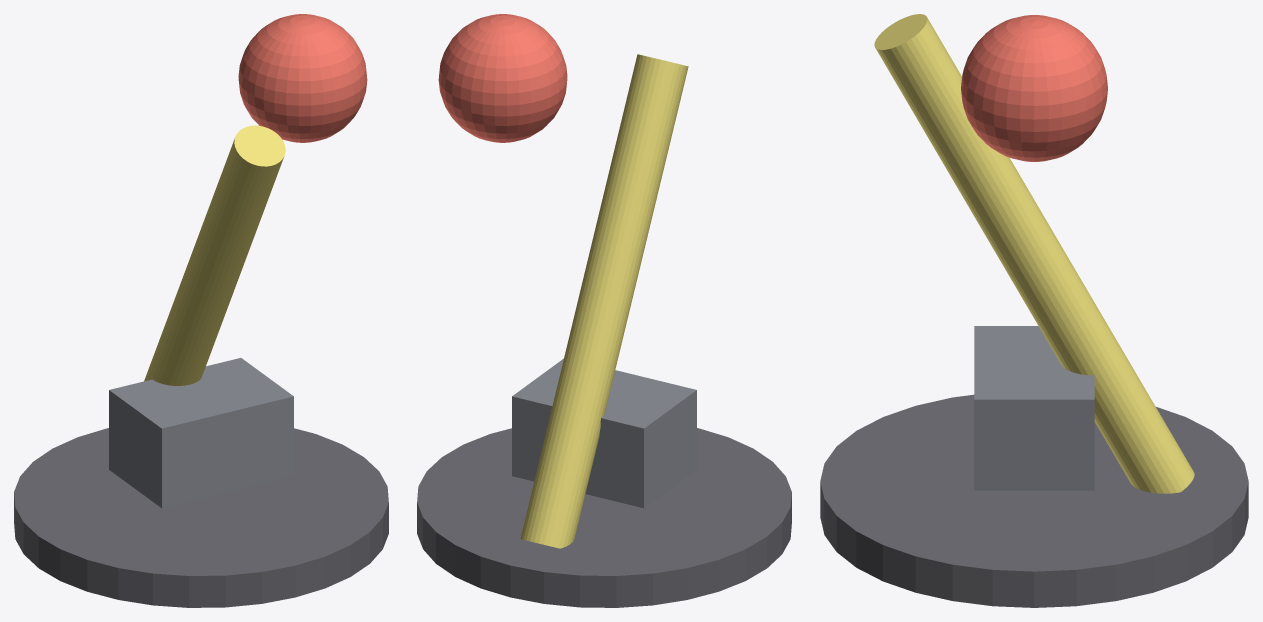
Rendered from switch_lever_right.glb.
The picture shows the model from 3 angles, left to right: view 1: azimuth 30°, elevation 25°; view 2: azimuth 150°, elevation 25°; view 3: azimuth 270°, elevation 25°; orthographic projection. The views are drawn at different scales.
Visible parts, largest first — view 1: Base, Housing, Shaft, Knob; view 2: Base, Shaft, Housing, Knob; view 3: Base, Shaft, Housing, Knob.
Boxes of the visible parts, box(x1,y1,x2,y2) form: Base: box(14, 428, 388, 607); Housing: box(109, 358, 293, 508); Shaft: box(144, 125, 285, 385); Knob: box(238, 14, 367, 142); Base: box(417, 428, 791, 607); Shaft: box(520, 54, 688, 548); Housing: box(512, 358, 696, 508); Knob: box(438, 14, 567, 142); Base: box(820, 394, 1248, 607); Shaft: box(874, 14, 1194, 493); Housing: box(974, 326, 1094, 490); Knob: box(961, 15, 1107, 161).
Bounding box in the file's own units: 0.64 × 0.9103 × 0.64.
